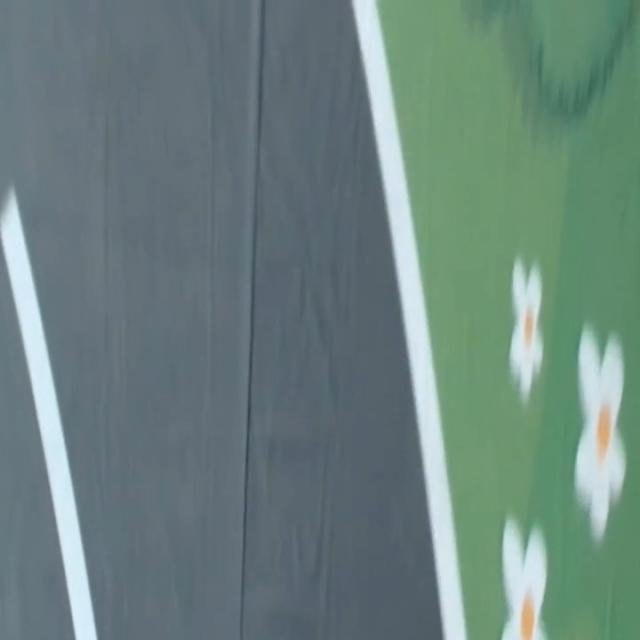center: (0, 187, 97, 639)
right: (353, 0, 466, 639)
